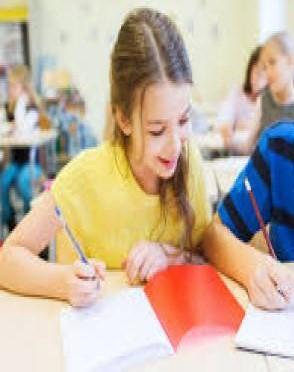cheating: (2, 5, 237, 372)
